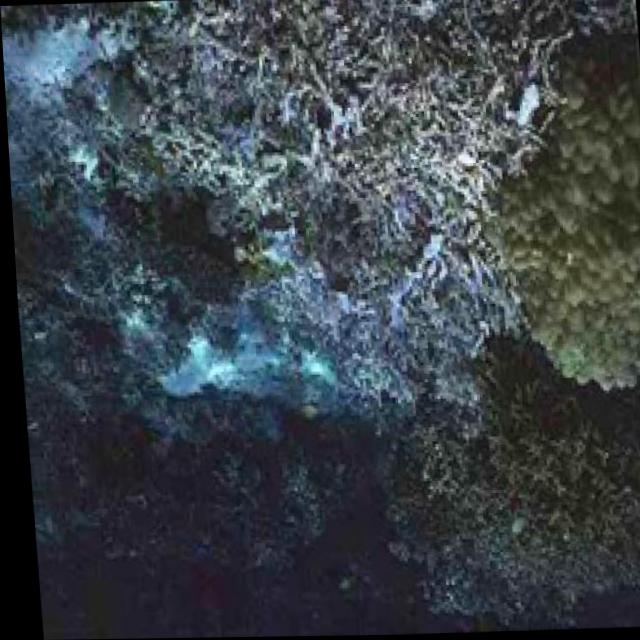Dead Coral: (19, 387, 640, 640), (182, 0, 536, 303)
